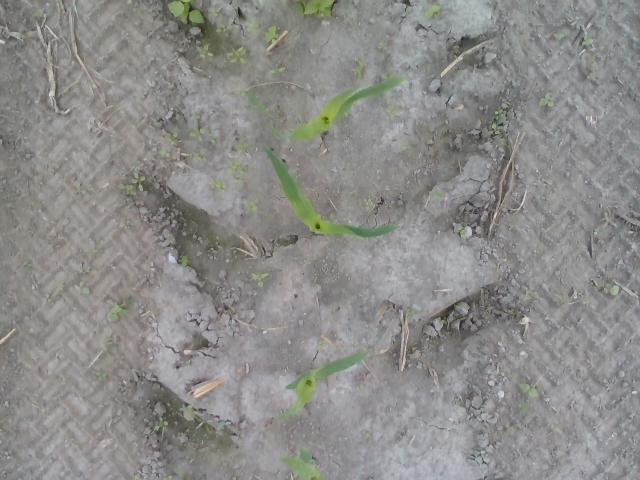Maize: (260, 138, 402, 240), (274, 75, 405, 141), (281, 351, 368, 417), (278, 446, 324, 480)
Weeds: (166, 0, 206, 28), (242, 86, 272, 114), (188, 113, 214, 144), (114, 172, 144, 194), (304, 0, 334, 18), (488, 103, 504, 136), (107, 298, 129, 320), (224, 46, 248, 66), (196, 38, 218, 58), (260, 23, 280, 44), (206, 23, 232, 38), (518, 382, 542, 398), (226, 158, 246, 177), (250, 270, 269, 288), (351, 58, 366, 80), (164, 129, 183, 145), (422, 4, 440, 20), (208, 176, 225, 192), (386, 103, 400, 122), (242, 198, 258, 214), (178, 403, 194, 419), (245, 17, 260, 33), (192, 426, 212, 438), (192, 149, 209, 163), (292, 0, 306, 17), (602, 283, 620, 296), (238, 134, 250, 153), (154, 416, 168, 431), (270, 64, 286, 77), (542, 91, 554, 107), (400, 142, 418, 152), (581, 33, 593, 48), (95, 371, 112, 381), (178, 255, 191, 268), (158, 147, 172, 159), (32, 11, 48, 20), (278, 408, 288, 422), (400, 6, 414, 16), (80, 265, 96, 273), (458, 224, 466, 240), (407, 306, 417, 318), (376, 41, 389, 50), (160, 471, 173, 480), (431, 190, 442, 200), (518, 402, 528, 413), (362, 429, 372, 440), (22, 262, 32, 272), (132, 470, 142, 480), (367, 198, 376, 209), (210, 7, 220, 16), (81, 288, 92, 296), (558, 31, 567, 40), (56, 280, 66, 288), (355, 384, 364, 392), (504, 424, 512, 432), (218, 420, 224, 430)
